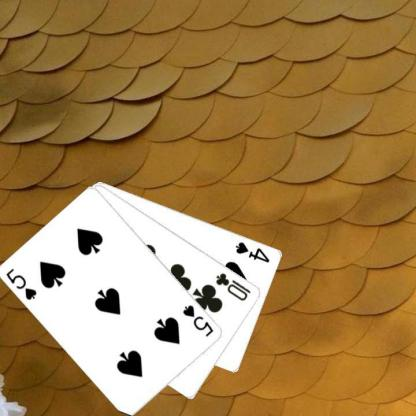10C: (213, 270, 253, 302)
4S: (233, 239, 271, 264)
5S: (180, 302, 215, 338), (4, 266, 38, 301)
